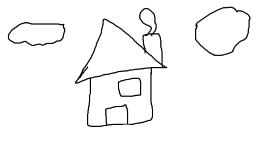clouds: (193, 5, 252, 57), (7, 21, 64, 46)
door: (103, 100, 131, 129)
open_window: (115, 74, 144, 99)
roof: (74, 18, 168, 83)
smoking_chimney: (135, 5, 163, 65)
wall: (86, 66, 154, 131)
